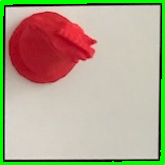Red Knight: (8, 9, 99, 88)
